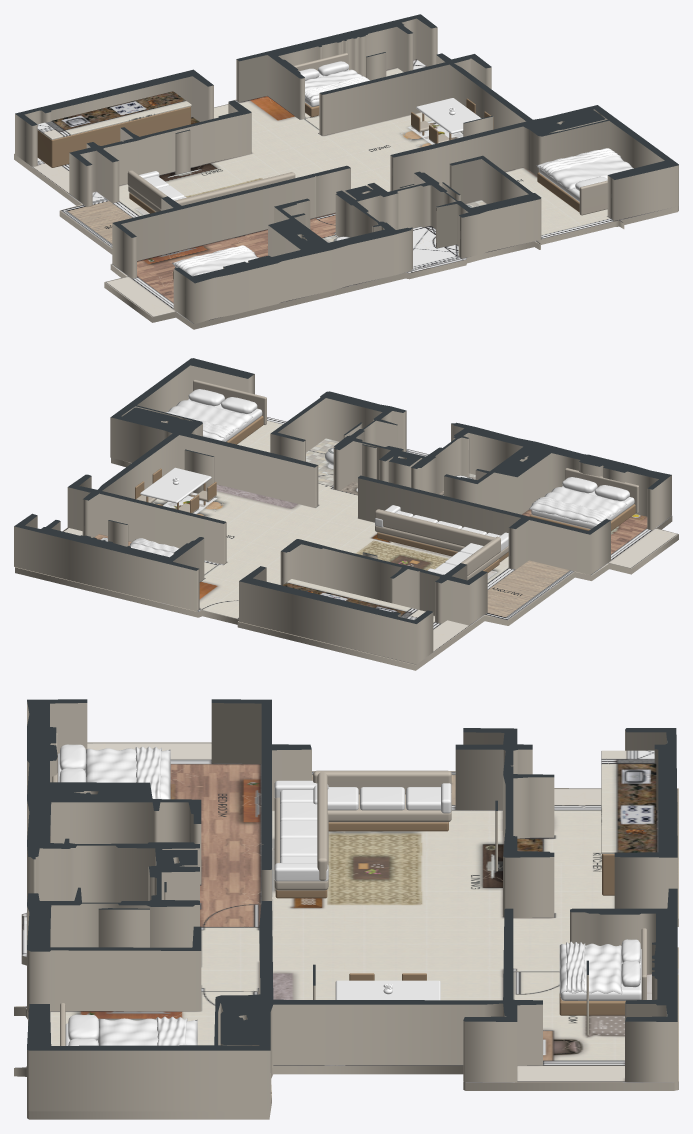
3 renders of one model, top to bottom at view 1: azimuth 30°, elevation 25°; view 2: azimuth 150°, elevation 25°; view 3: azimuth 270°, elevation 25°, orthographic. The views are drawn at different scales.
Visible parts, largest first — view 1: Partition walls, Apartment floor, Kitchen cabinets, Stone worktop, Draped bed linen.002, Marble dining top, Sofa back, Upholstered headboard.001, Draped bed linen.003, Draped bed linen, Draped bed linen.001, Sofa back.001 (+1 smaller); view 2: Partition walls, Apartment floor, Sofa back, Draped bed linen, Marble dining top, Draped bed linen.002, Stone worktop, Upholstered headboard.001, Upholstered sofa frame, Upholstered headboard, Draped bed linen.001, Sofa back.001 (+2 smaller); view 3: Partition walls, Apartment floor, Stone worktop, Draped bed linen, Sofa back.001, Draped bed linen.004, Marble dining top, Draped bed linen.002, Upholstered sofa frame.001, Sofa plinth.001, Sofa back, Seat cushion.006 (+14 smaller).
Part boxes in pixels (<box>): Partition walls: <box>15,14,678,323</box>; Apartment floor: <box>14,59,678,329</box>; Kitchen cabinets: <box>37,106,190,167</box>; Stone worktop: <box>37,91,191,139</box>; Draped bed linen.002: <box>536,148,633,189</box>; Marble dining top: <box>416,98,481,133</box>; Sofa back: <box>174,172,295,205</box>; Upholstered headboard.001: <box>579,180,607,215</box>; Draped bed linen.003: <box>539,148,620,174</box>; Draped bed linen: <box>172,248,258,276</box>; Draped bed linen.001: <box>175,245,254,270</box>; Sofa back.001: <box>127,170,167,209</box>; Partition walls: <box>14,358,671,664</box>; Apartment floor: <box>15,417,678,670</box>; Sofa back: <box>375,509,495,546</box>; Draped bed linen: <box>528,487,626,524</box>; Marble dining top: <box>140,467,211,503</box>; Draped bed linen.002: <box>168,400,252,440</box>; Stone worktop: <box>282,579,425,619</box>; Upholstered headboard.001: <box>193,380,266,424</box>; Upholstered sofa frame: <box>375,525,508,559</box>; Upholstered headboard: <box>565,468,638,513</box>; Draped bed linen.001: <box>531,497,610,521</box>; Sofa back.001: <box>461,536,500,575</box>; Partition walls: <box>27,699,677,1111</box>; Apartment floor: <box>14,742,678,1119</box>; Stone worktop: <box>601,750,656,853</box>; Draped bed linen: <box>85,748,170,799</box>; Sofa back.001: <box>313,770,451,794</box>; Draped bed linen.004: <box>559,943,622,994</box>; Marble dining top: <box>335,980,440,1000</box>; Draped bed linen.002: <box>98,1018,197,1045</box>; Upholstered sofa frame.001: <box>327,794,451,822</box>; Sofa plinth.001: <box>328,822,448,831</box>; Sofa back: <box>317,771,327,880</box>; Seat cushion.006: <box>360,787,404,810</box>.
Size of the model in its own units: 14.92 by 1.3 by 11.36.
10 materials, 1 textured.
